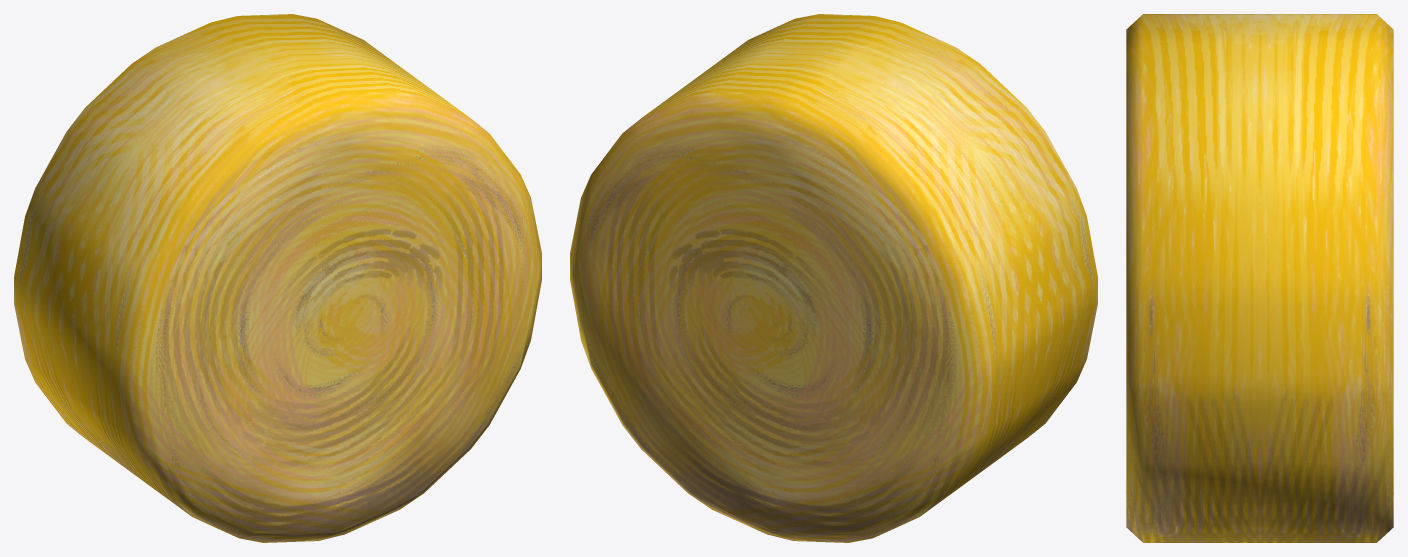
Rendered from Rulo.fbx.
3 views of the same model, side by side, from view 1: azimuth 30°, elevation 25°; view 2: azimuth 150°, elevation 25°; view 3: azimuth 270°, elevation 25° (orthographic). The views are drawn at different scales.
Visible parts, largest first — view 1: Cylinder; view 2: Cylinder; view 3: Cylinder.
Boxes of the visible parts, box(x1,y1,x2,y2) form: Cylinder: box(14, 14, 541, 542); Cylinder: box(570, 14, 1097, 542); Cylinder: box(1126, 14, 1393, 542).
Size of the model in its own units: 198 by 198 by 100.
Materials: 1 (1 with a texture image).
